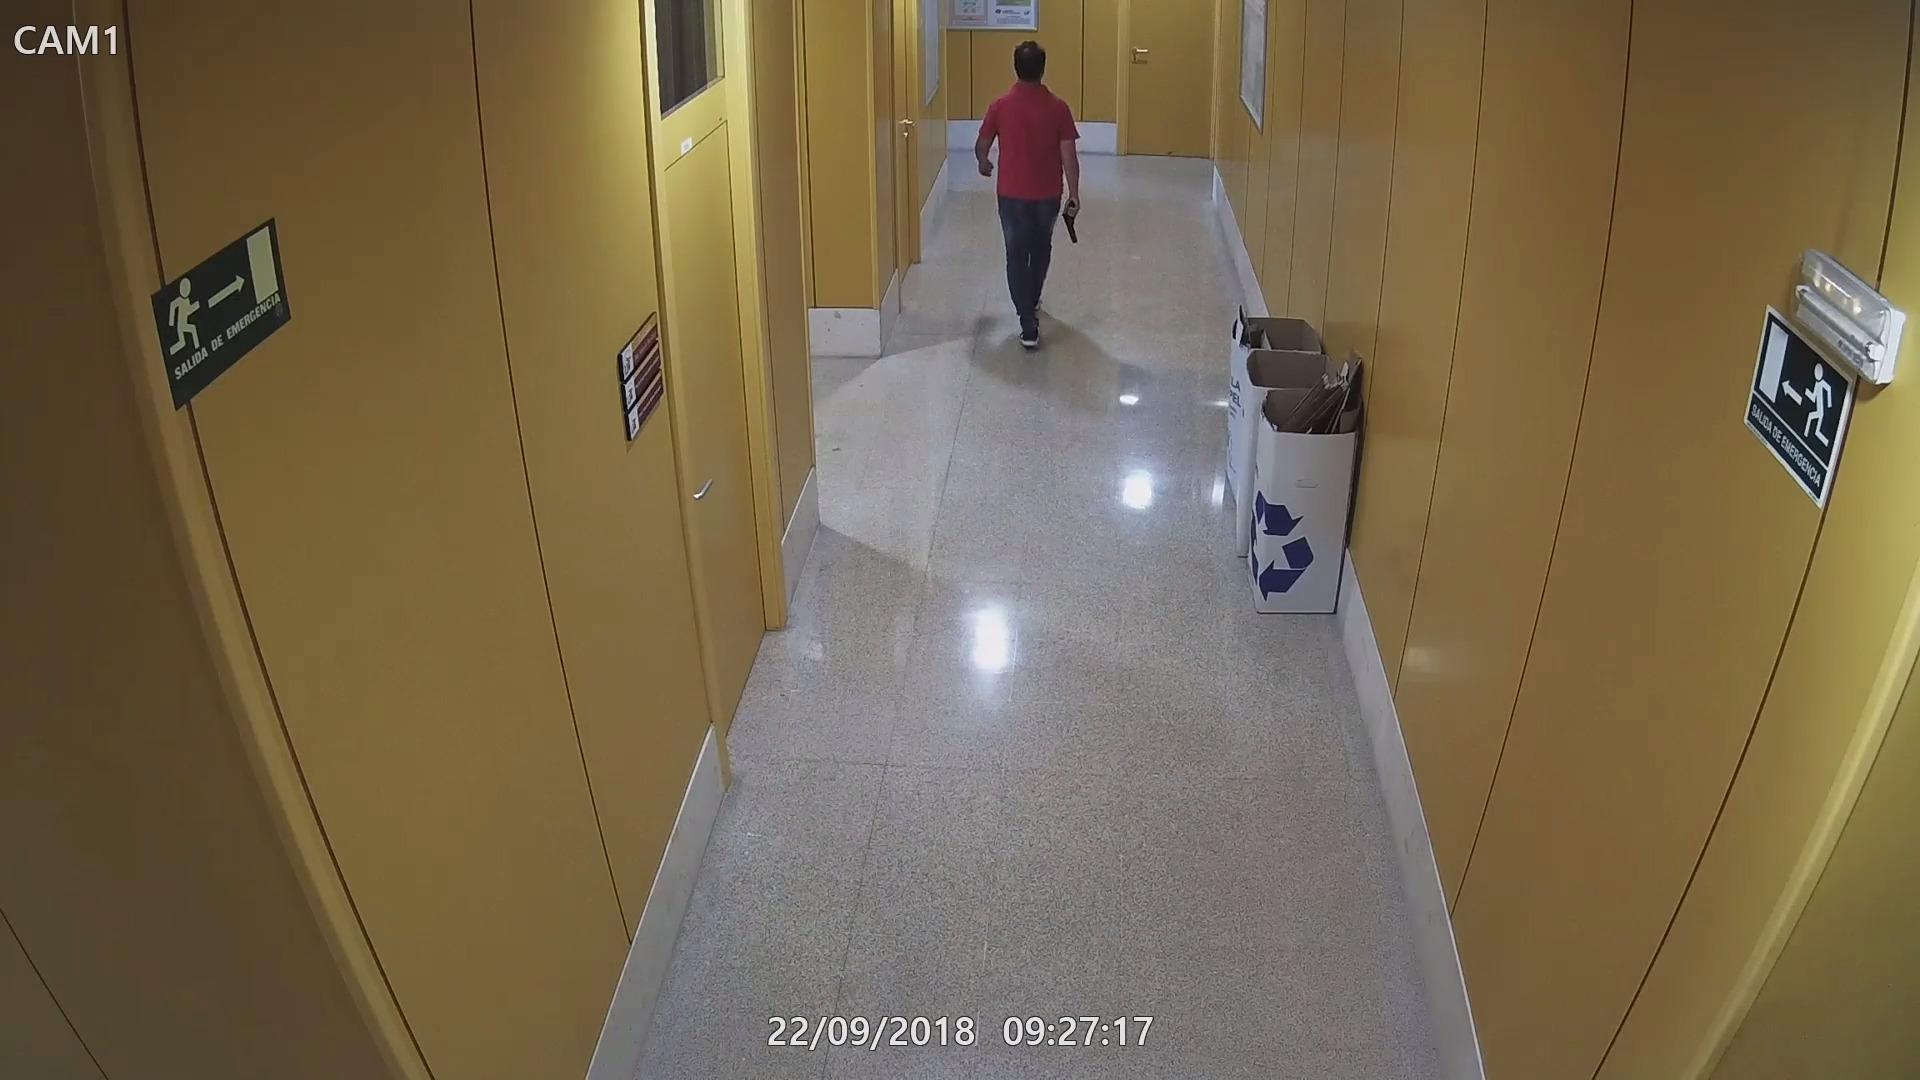Handgun: (1058, 195, 1085, 244)
